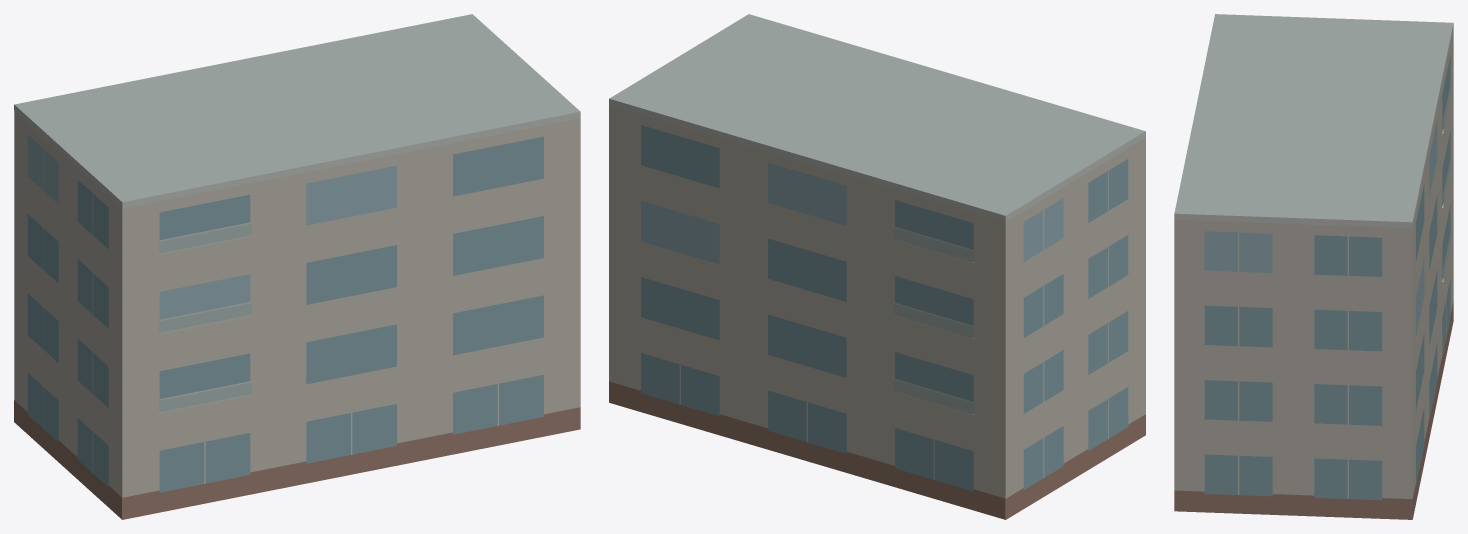
File: residential-860d601a-5abc-47df-9174-5f04e784d813.glb
The picture shows the model from 3 angles, left to right: view 1: azimuth 30°, elevation 25°; view 2: azimuth 150°, elevation 25°; view 3: azimuth 270°, elevation 25°; orthographic projection. The views are drawn at different scales.
Parts seen in each view (by area): view 1: residential-860d601a-5abc-47df-9174-5f04e784d813.tmp; view 2: residential-860d601a-5abc-47df-9174-5f04e784d813.tmp; view 3: residential-860d601a-5abc-47df-9174-5f04e784d813.tmp.
Boxes of the visible parts, x1,y1,x2,y2 form: residential-860d601a-5abc-47df-9174-5f04e784d813.tmp: [14, 14, 580, 519]; residential-860d601a-5abc-47df-9174-5f04e784d813.tmp: [609, 14, 1145, 519]; residential-860d601a-5abc-47df-9174-5f04e784d813.tmp: [1174, 14, 1453, 519].
Size of the model in its own units: 18.32 by 12.2 by 10.39.
